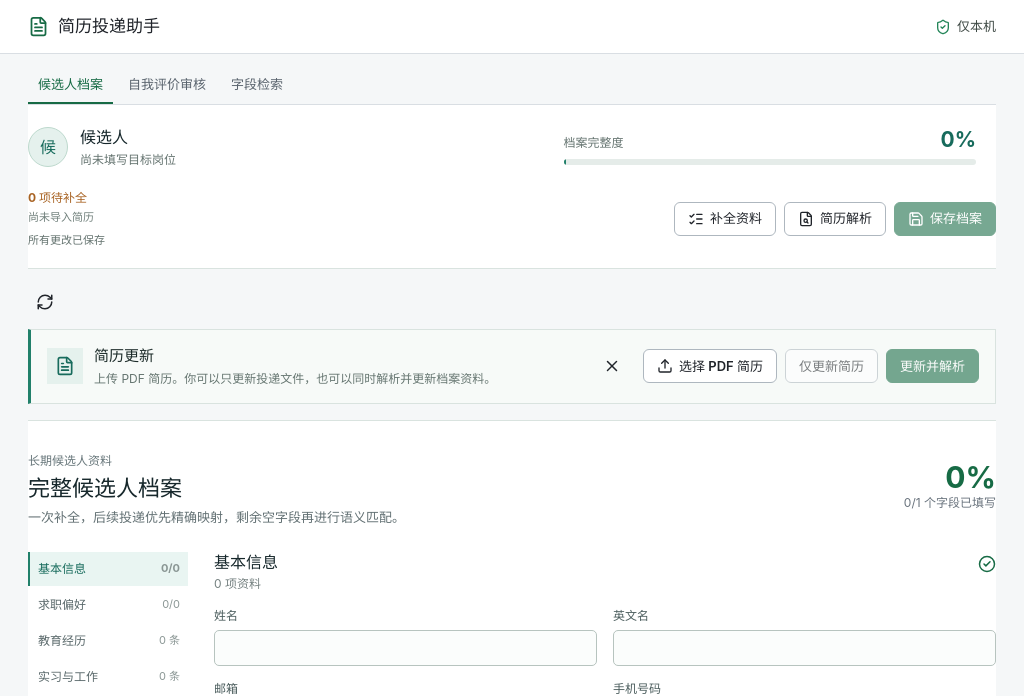
it: ServiceStatus › keeps the newest health refresh when responses resolve out of order
Click the button named "刷新资料" at (45, 302), box [28, 285, 62, 319]
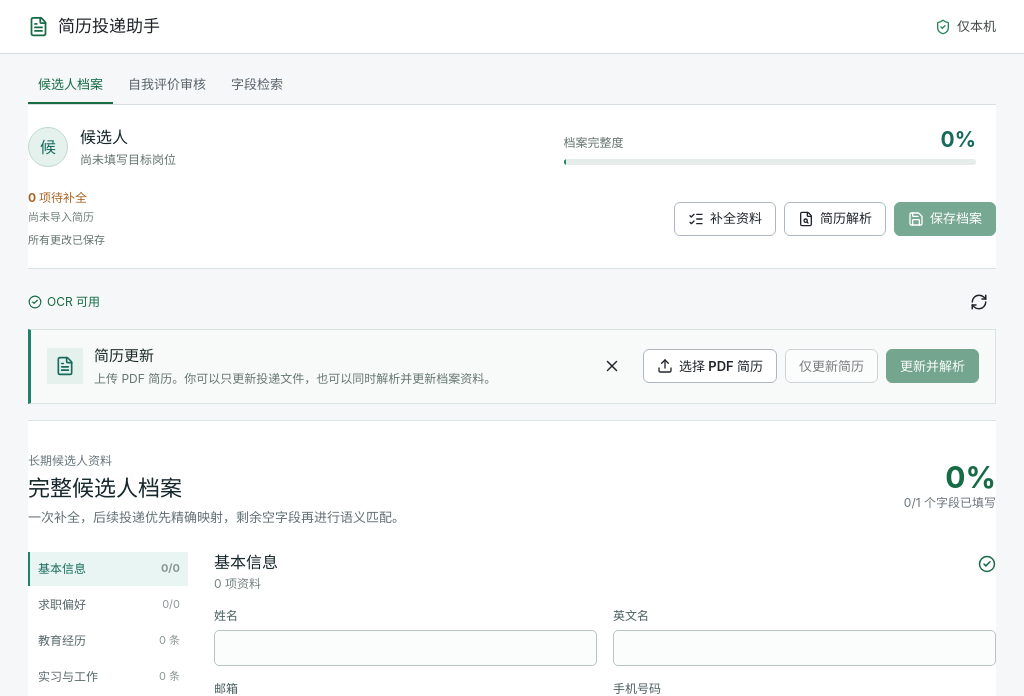
Result: the text "OCR 可用" is shown at [47, 292, 100, 312]
